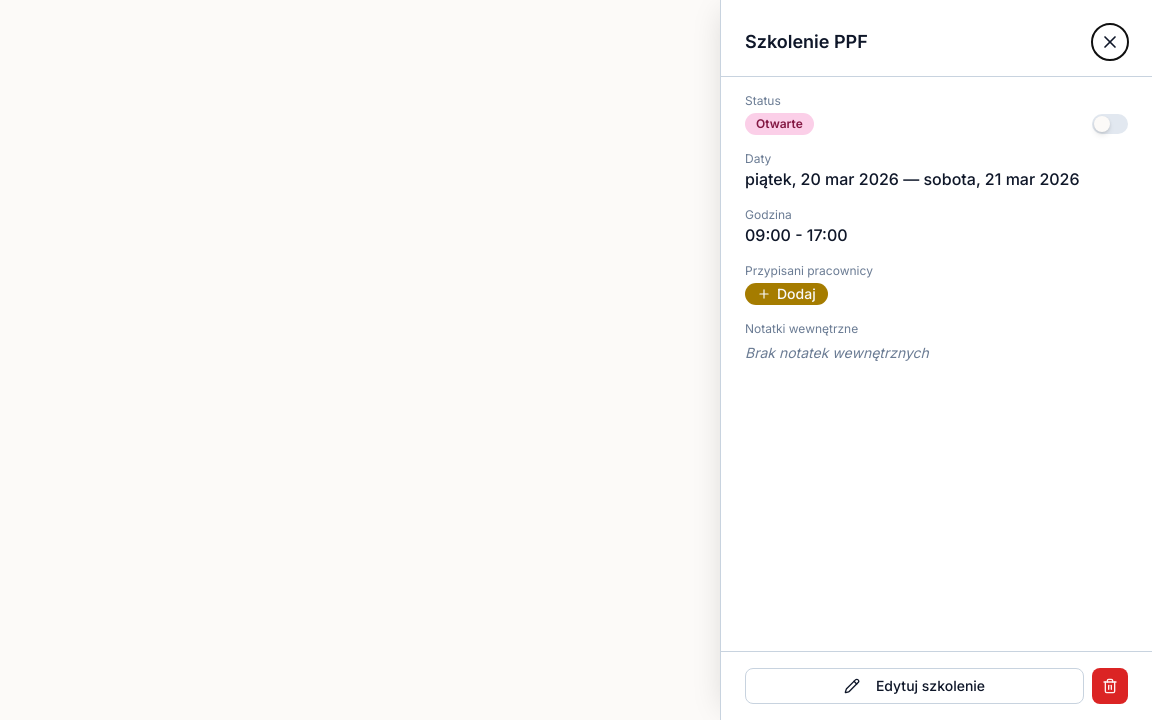
Test: TrainingDetailsDrawer › status toggle › updates Switch visually after toggling from open to sold_out
Click the switch at (1110, 124), box [1092,114,1128,134]
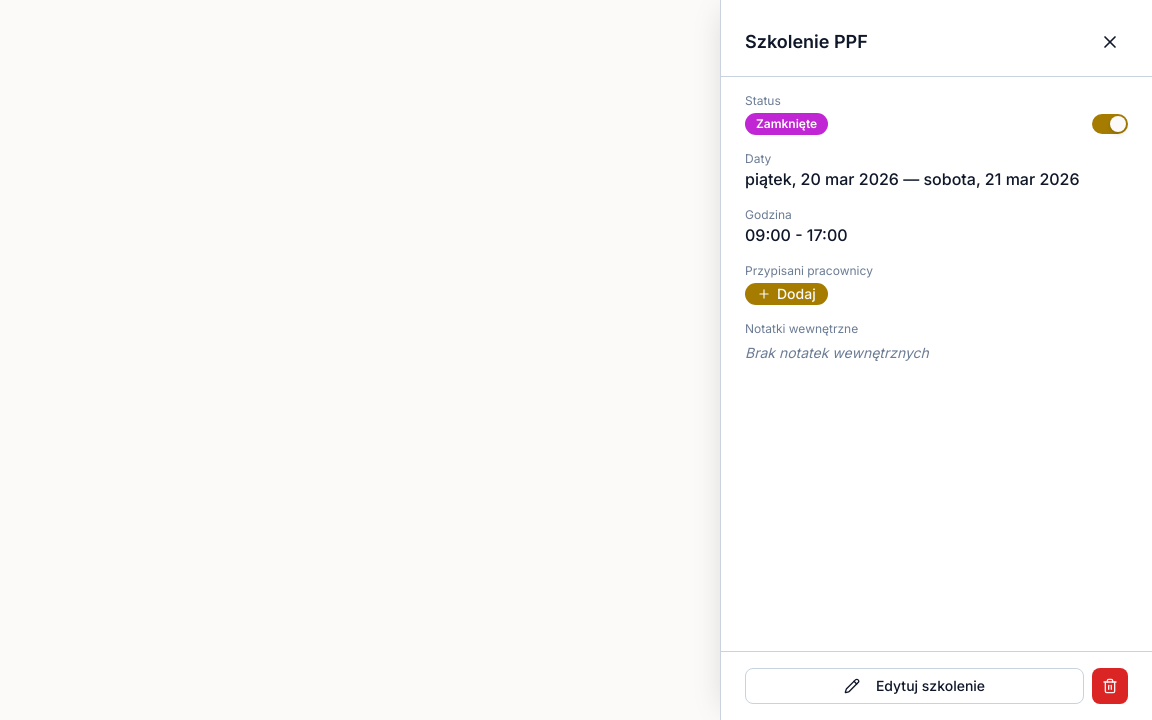
Now the switch is checked, box [1092,114,1128,134]
